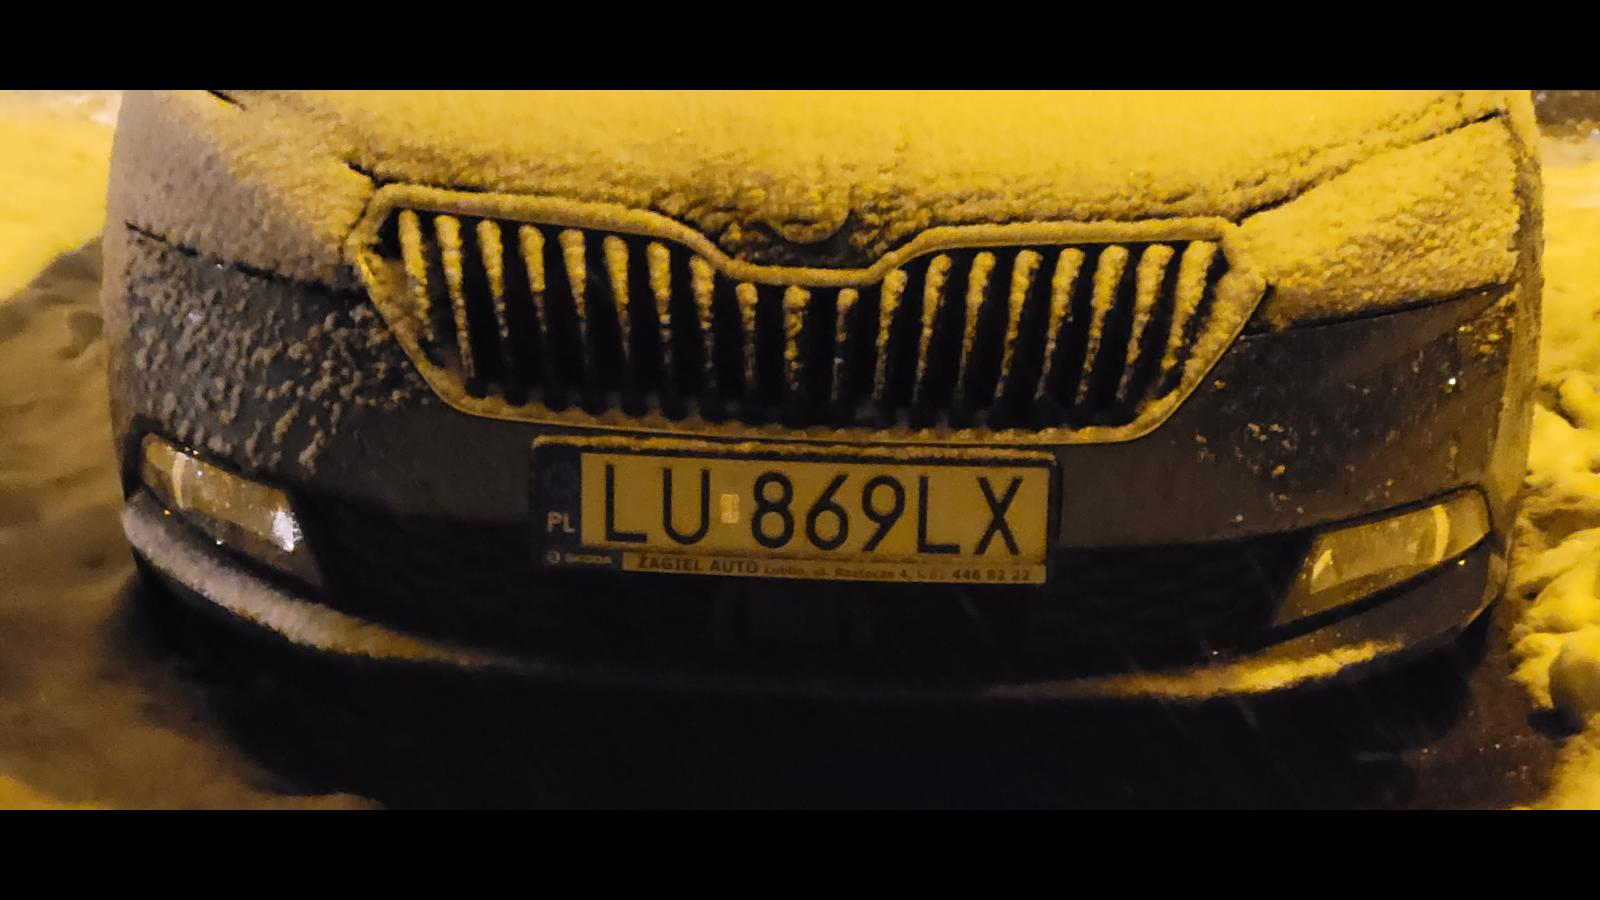plates: (534, 443, 1057, 585)
